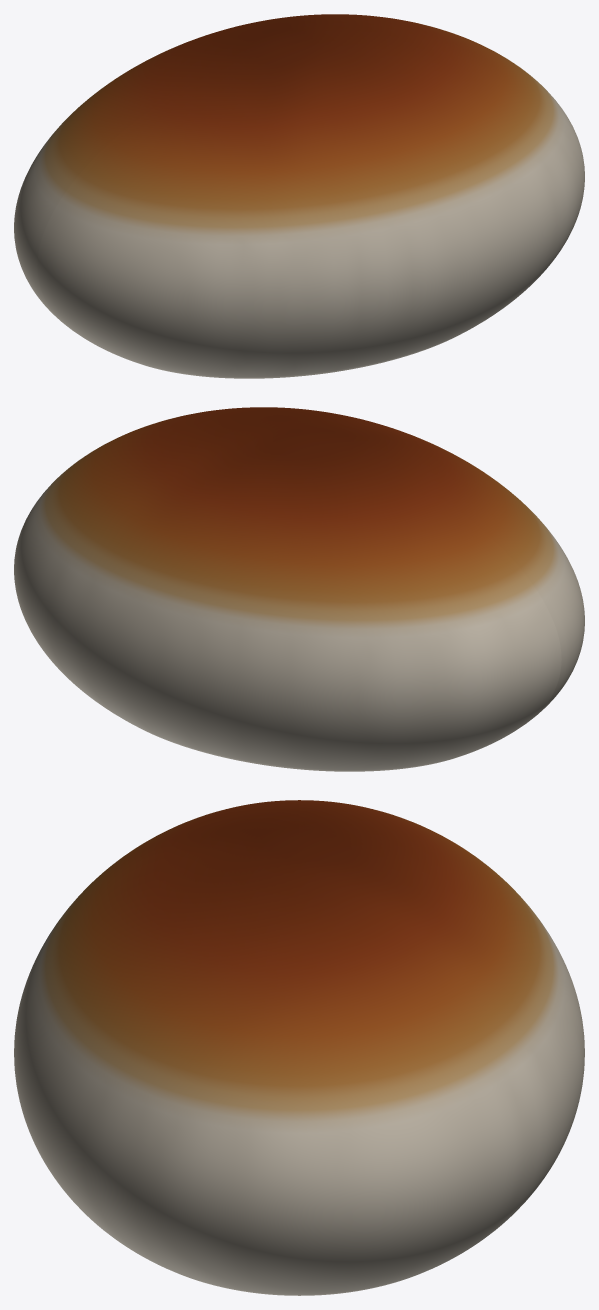
Rendered from KuriManju.glb.
3 views of the same model, one above another, from view 1: azimuth 30°, elevation 25°; view 2: azimuth 150°, elevation 25°; view 3: azimuth 270°, elevation 25° (orthographic). The views are drawn at different scales.
Parts seen in each view (by area): view 1: manju; view 2: manju; view 3: manju.
Part boxes in pixels (bbox=[...]): manju: bbox=[14, 14, 584, 378]; manju: bbox=[14, 407, 584, 771]; manju: bbox=[14, 800, 584, 1295].
Bounding box in the file's own units: 3.2 × 1.55 × 2.4.
